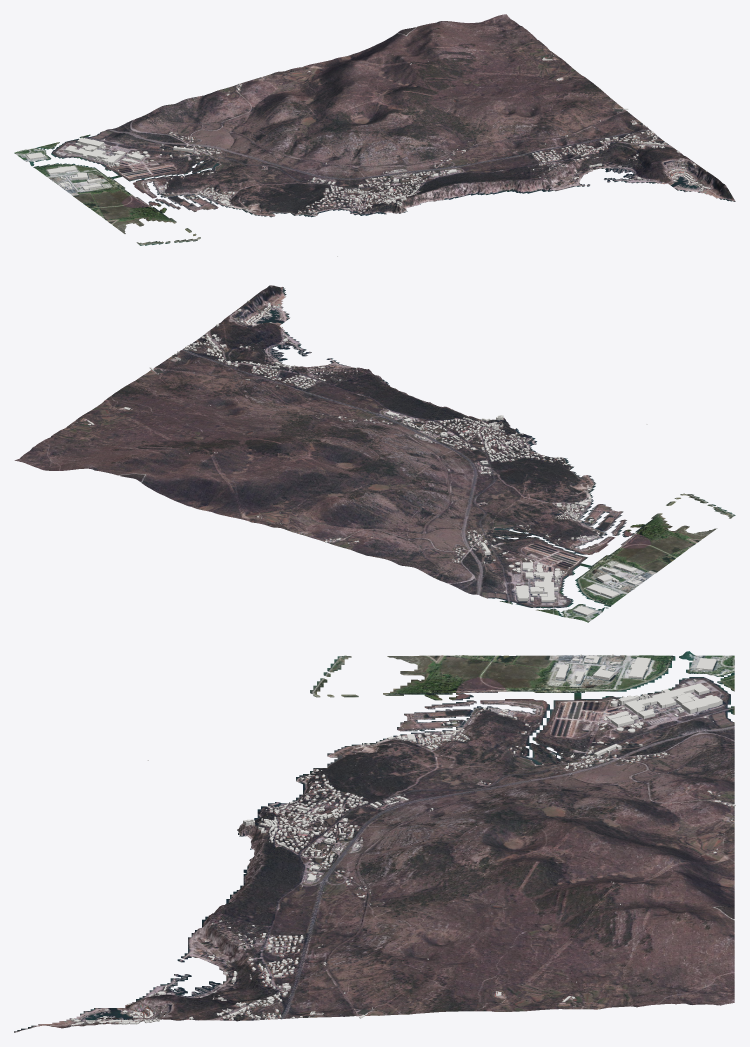
The model's file is contesto.glb.
3 views of the same model, one above another, from view 1: azimuth 30°, elevation 25°; view 2: azimuth 150°, elevation 25°; view 3: azimuth 270°, elevation 25° (orthographic). The views are drawn at different scales.
Visible parts, largest first — view 1: terreno_esterno, edifici, terreno_core; view 2: terreno_esterno, edifici, terreno_core; view 3: terreno_esterno, edifici, terreno_core.
Part boxes in pixels (bbox=[...]): terreno_esterno: bbox=[14, 14, 735, 245]; edifici: bbox=[26, 55, 710, 256]; terreno_core: bbox=[354, 170, 444, 214]; terreno_esterno: bbox=[14, 285, 735, 622]; edifici: bbox=[76, 300, 647, 615]; terreno_core: bbox=[410, 406, 516, 451]; terreno_esterno: bbox=[14, 651, 734, 1032]; edifici: bbox=[71, 654, 735, 1026]; terreno_core: bbox=[237, 815, 344, 865].
Bounding box in the file's own units: 5160 × 327 × 4148.
3 materials, 2 textured.
